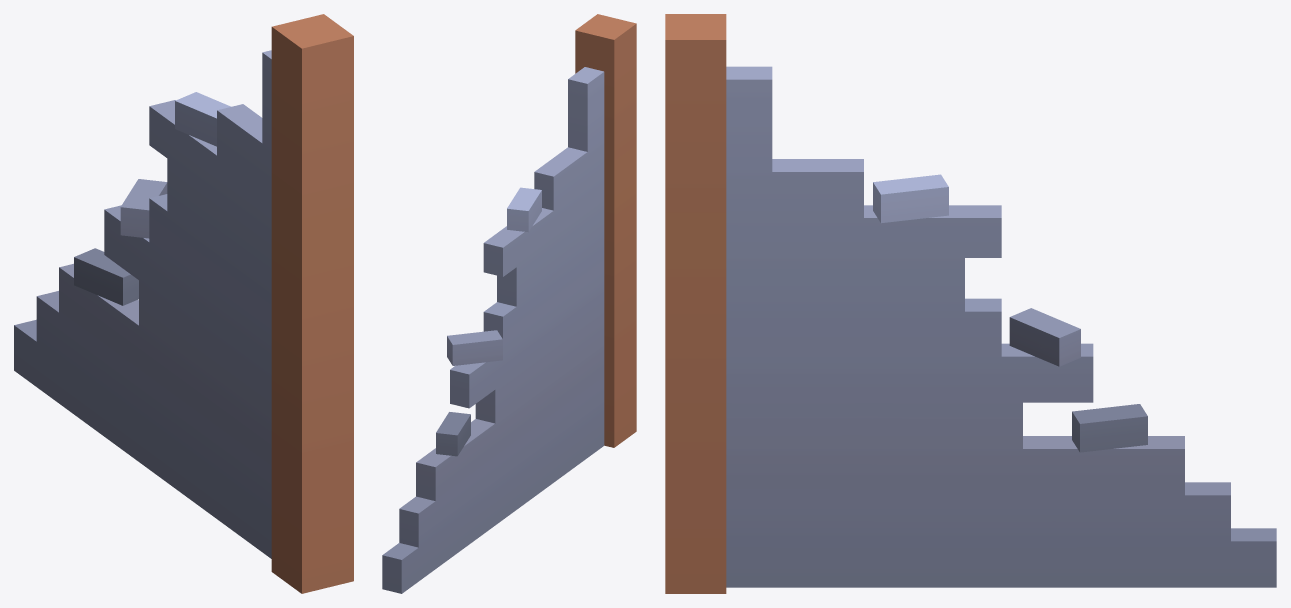
Rendered from wall-broken.glb.
3 views of the same model, side by side, from view 1: azimuth 30°, elevation 25°; view 2: azimuth 150°, elevation 25°; view 3: azimuth 270°, elevation 25° (orthographic). The views are drawn at different scales.
Parts seen in each view (by area): view 1: wall-broken; view 2: wall-broken; view 3: wall-broken.
Part boxes in pixels (left/top/right/bottom): wall-broken: left=14, top=14, right=353, bottom=593; wall-broken: left=382, top=14, right=636, bottom=593; wall-broken: left=665, top=14, right=1276, bottom=593.
Size of the model in its own units: 0.1168 by 1 by 1.
Materials: 1 (1 with a texture image).
